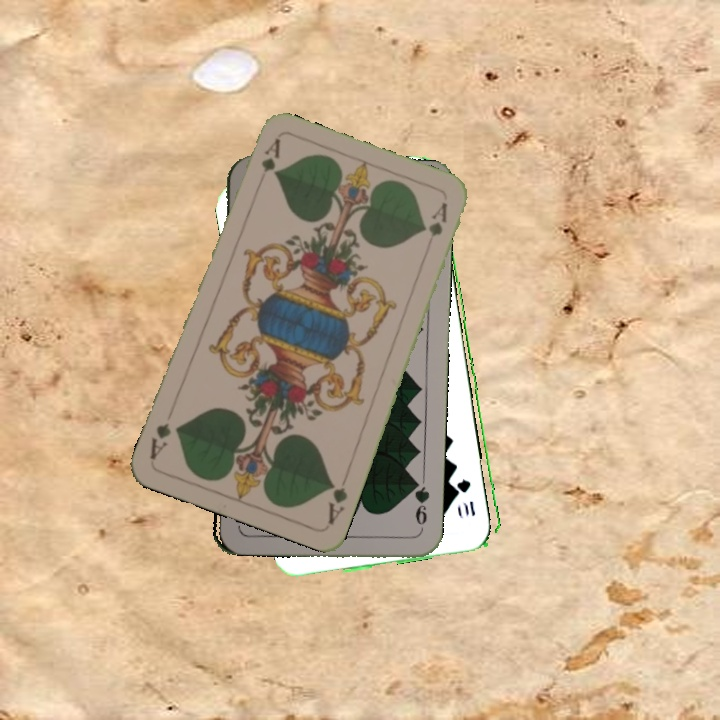G10: (457, 474, 478, 519)
G9: (408, 475, 432, 534)
GA: (324, 477, 350, 528), (257, 135, 283, 175)
